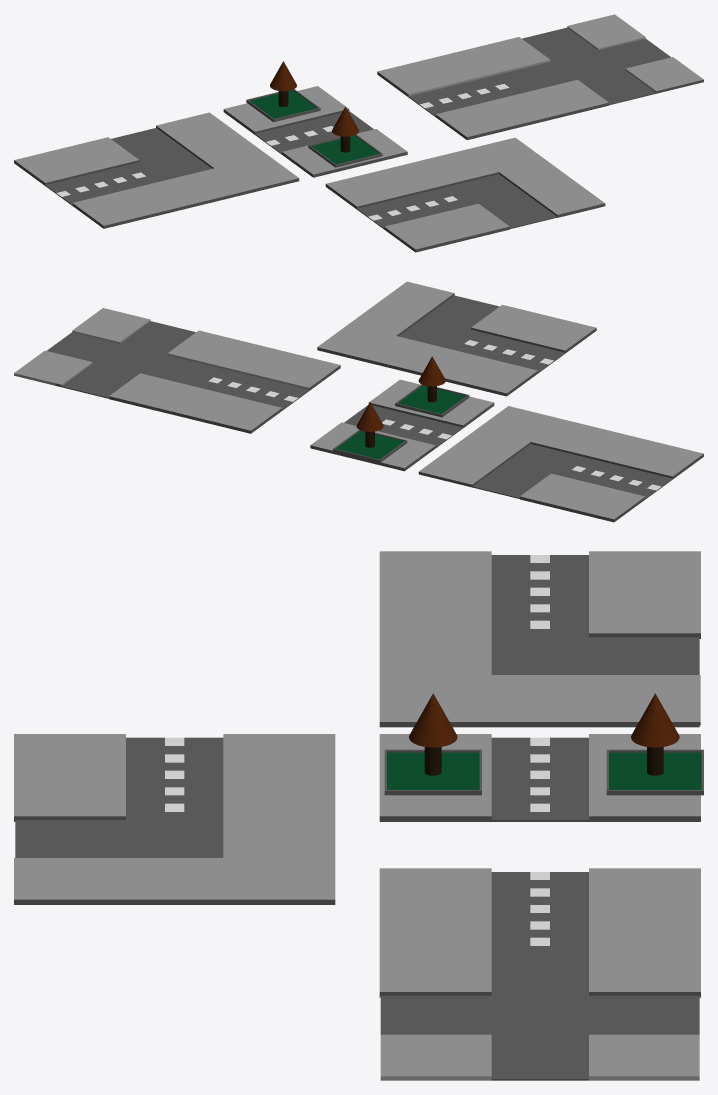
File: SD_StreetPackage.fbx
The picture shows the model from 3 angles, top to bottom: view 1: azimuth 30°, elevation 25°; view 2: azimuth 150°, elevation 25°; view 3: azimuth 270°, elevation 25°; orthographic projection. The views are drawn at different scales.
Visible parts, largest first — view 1: Cube.004, Cube.003, Cube.005, Cube.001, Cube.002, Cube, Cone.001, Cone; view 2: Cube.004, Cube.003, Cube.005, Cube.001, Cube, Cube.002, Cone, Cone.001; view 3: Cube.004, Cube.003, Cube.005, Cube.001, Cube, Cube.002, Cone.001, Cone.
Part boxes in pixels (x1,y1,x2,y2): Cube.004: [377, 14, 703, 140]; Cube.003: [14, 112, 299, 228]; Cube.005: [325, 137, 605, 252]; Cube.001: [223, 86, 407, 177]; Cube.002: [308, 134, 382, 167]; Cube: [246, 89, 320, 122]; Cone.001: [332, 106, 358, 152]; Cone: [270, 61, 296, 106]; Cube.004: [14, 308, 340, 433]; Cube.003: [418, 406, 703, 522]; Cube.005: [317, 281, 596, 396]; Cube.001: [310, 379, 494, 471]; Cube: [333, 429, 407, 462]; Cube.002: [395, 384, 469, 417]; Cone: [356, 402, 383, 447]; Cone.001: [418, 356, 445, 402]; Cube.004: [379, 868, 700, 1080]; Cube.003: [379, 551, 700, 727]; Cube.005: [14, 734, 335, 904]; Cube.001: [379, 734, 700, 821]; Cube: [606, 749, 703, 795]; Cube.002: [384, 749, 481, 795]; Cone.001: [409, 693, 457, 775]; Cone: [631, 693, 679, 775].
Bounding box in the file's own units: 5040 × 393 × 2804.
